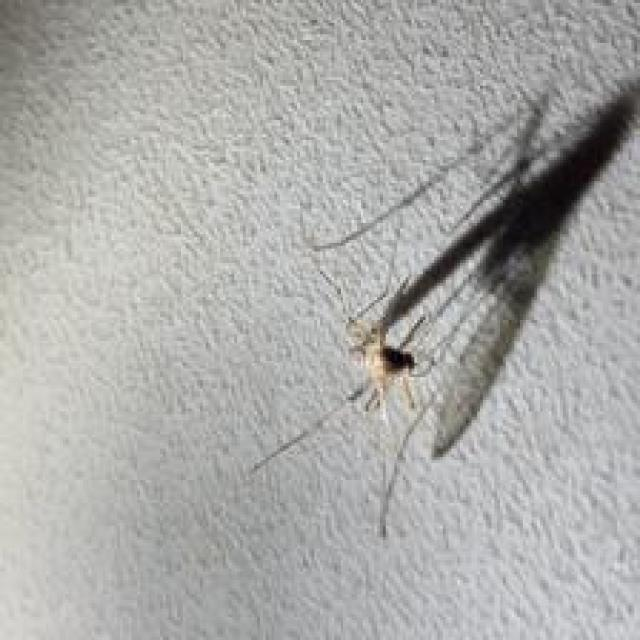Culex: (248, 45, 640, 540)
